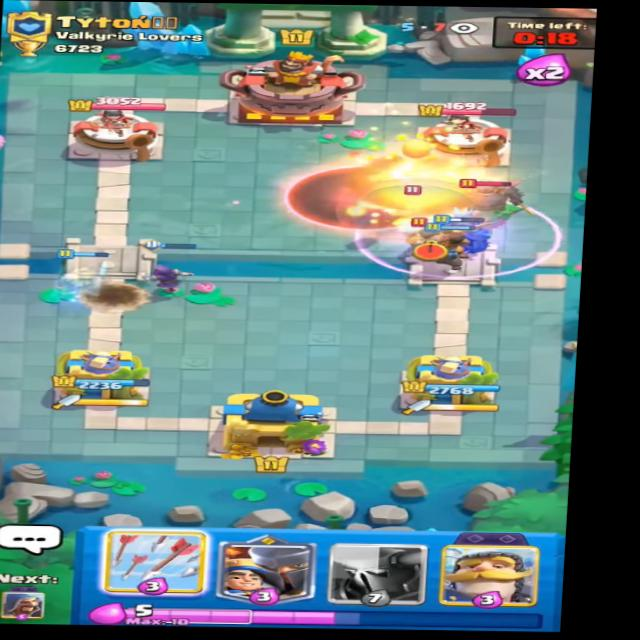Knight: (392, 219, 461, 267)
Pekka: (450, 163, 542, 209)
Pheonixegg: (390, 133, 435, 162)
